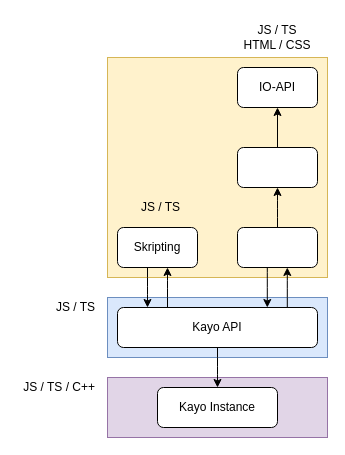
The diagram is 345 pixels wide and 455 high, and some of its shapes have lost their labels. Here are the shapes that lost their labels. From the top down, the box of each, then its label:
(236, 146, 318, 188): UI-Lib
(236, 226, 318, 268): KayoUI
